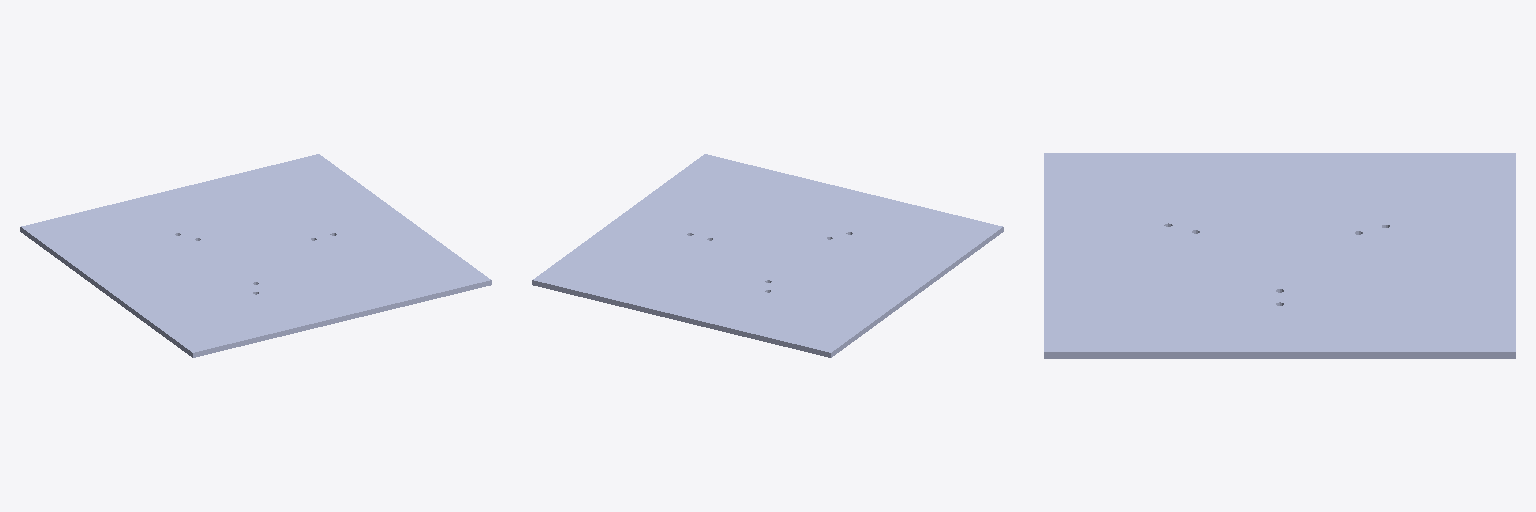
robot.urdf — de tren_full.SLDASM:
<robot
  name="de tren_full.SLDASM">
  <link
    name="base_link">
    <inertial>
      <origin
        xyz="0.036543163145739 0.163289648877248 0.00337167330750993"
        rpy="0 0 0" />
      <mass
        value="0.492172788151822" />
      <inertia
        ixx="0.00350614800741627"
        ixy="-3.56233213708187E-06"
        ixz="4.73226328582066E-07"
        iyy="0.00350988475690316"
        iyz="2.9666701125647E-07"
        izz="0.00700475747640881" />
    </inertial>
    <visual>
      <origin
        xyz="0 0 0"
        rpy="0 0 0" />
      <geometry>
        <mesh
          filename="package://de tren_full.SLDASM/meshes/base_link.STL" />
      </geometry>
      <material
        name="">
        <color
          rgba="0.792156862745098 0.819607843137255 0.933333333333333 1" />
      </material>
    </visual>
    <collision>
      <origin
        xyz="0 0 0"
        rpy="0 0 0" />
      <geometry>
        <mesh
          filename="package://de tren_full.SLDASM/meshes/base_link.STL" />
      </geometry>
    </collision>
  </link>
</robot>

--- Facts derived from the render (not from the file) ---
The picture shows the robot from 3 angles, left to right: view 1: azimuth 30°, elevation 25°; view 2: azimuth 150°, elevation 25°; view 3: azimuth 270°, elevation 25°; orthographic projection.
Robot: de tren_full.SLDASM — 1 links, 0 joints (none); root link base_link; default pose: all joints at 0.
Visible links, largest first — view 1: base_link; view 2: base_link; view 3: base_link.
Boxes of the visible links, x1=… form: base_link: x1=20, y1=154, x2=491, y2=357; base_link: x1=532, y1=154, x2=1003, y2=357; base_link: x1=1044, y1=153, x2=1515, y2=358.
Size in the robot's own frame: 0.3 by 0.3 by 0.02 metres.
Meshes: 1 distinct files referenced, 1 mesh visuals loaded (1 binary STL).
